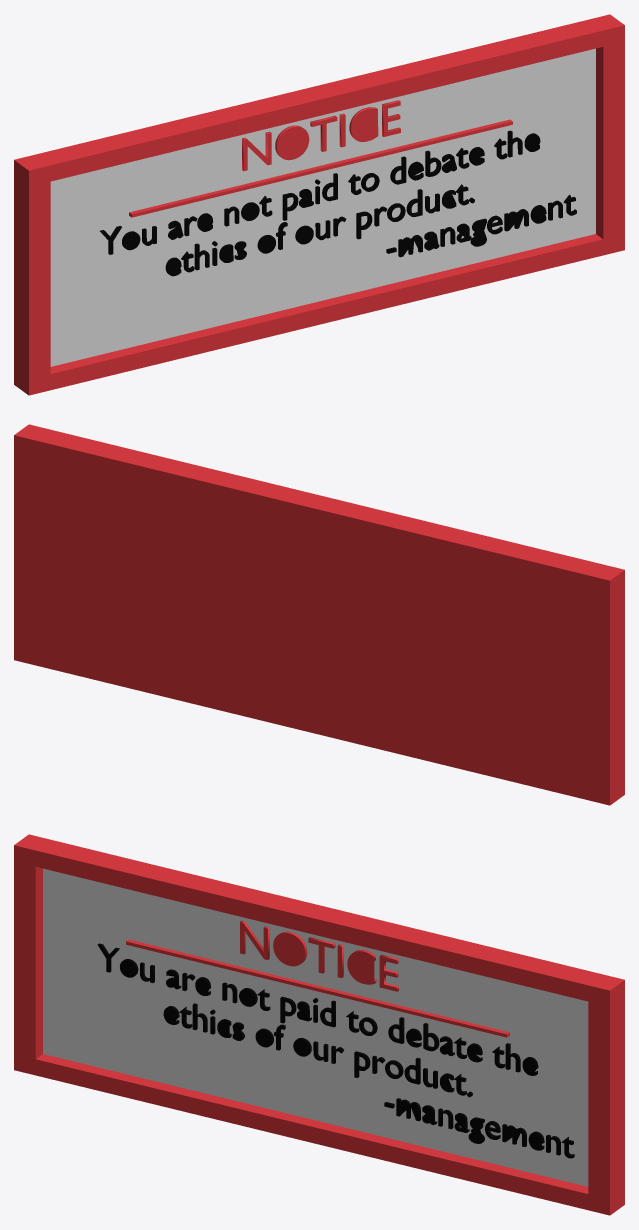
The model's file is YouAreNotPaidToDebate.fbx.
3 renders of one model, top to bottom at view 1: azimuth 30°, elevation 25°; view 2: azimuth 150°, elevation 25°; view 3: azimuth 330°, elevation 25°, orthographic.
Visible parts, largest first — view 1: Inner Board, Outter Board, You are npt paid, Notice; view 2: Outter Board; view 3: Inner Board, Outter Board, You are npt paid, Notice.
Part boxes in pixels (bbox=[...]): Inner Board: bbox=[50, 48, 595, 366]; Outter Board: bbox=[14, 14, 624, 395]; You are npt paid: bbox=[100, 130, 576, 276]; Notice: bbox=[242, 100, 400, 171]; Outter Board: bbox=[14, 424, 624, 805]; Inner Board: bbox=[43, 868, 588, 1186]; Outter Board: bbox=[14, 834, 624, 1215]; You are npt paid: bbox=[97, 943, 574, 1158]; Notice: bbox=[240, 920, 398, 991].
Bounding box in the file's own units: 324 × 117 × 14.02.
